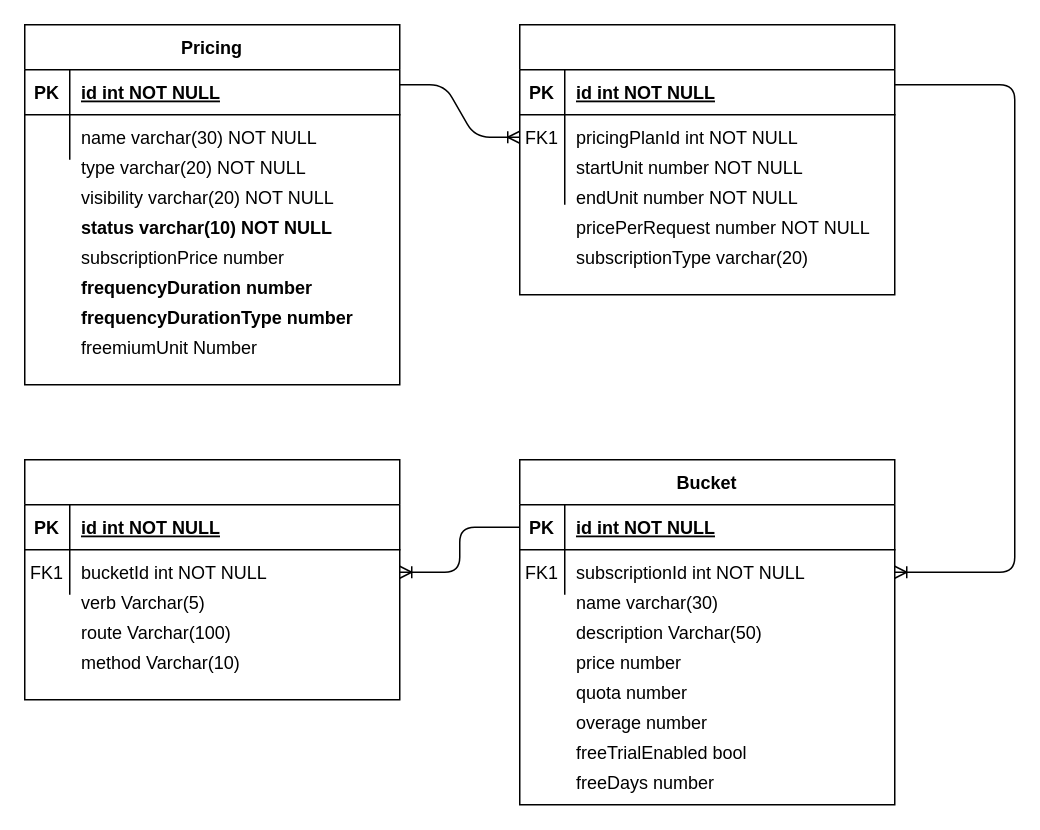
Image size: 1040x830. Some labels were removed from this diagram. The box of each missing label's shape, as (x1, y1, x2, y2) in pixels:
AdvancedPlan: (518, 23, 895, 295)
EndPointDetail: (23, 458, 400, 700)
